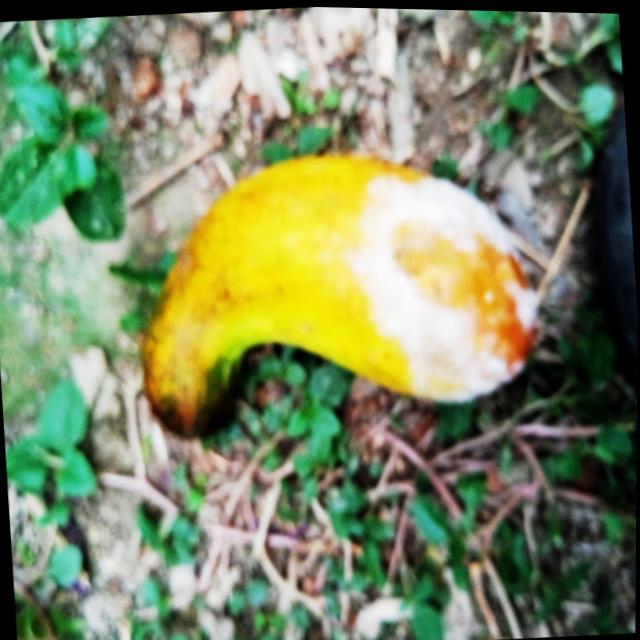Pythium-Fruit-Rot: (345, 158, 543, 410)
